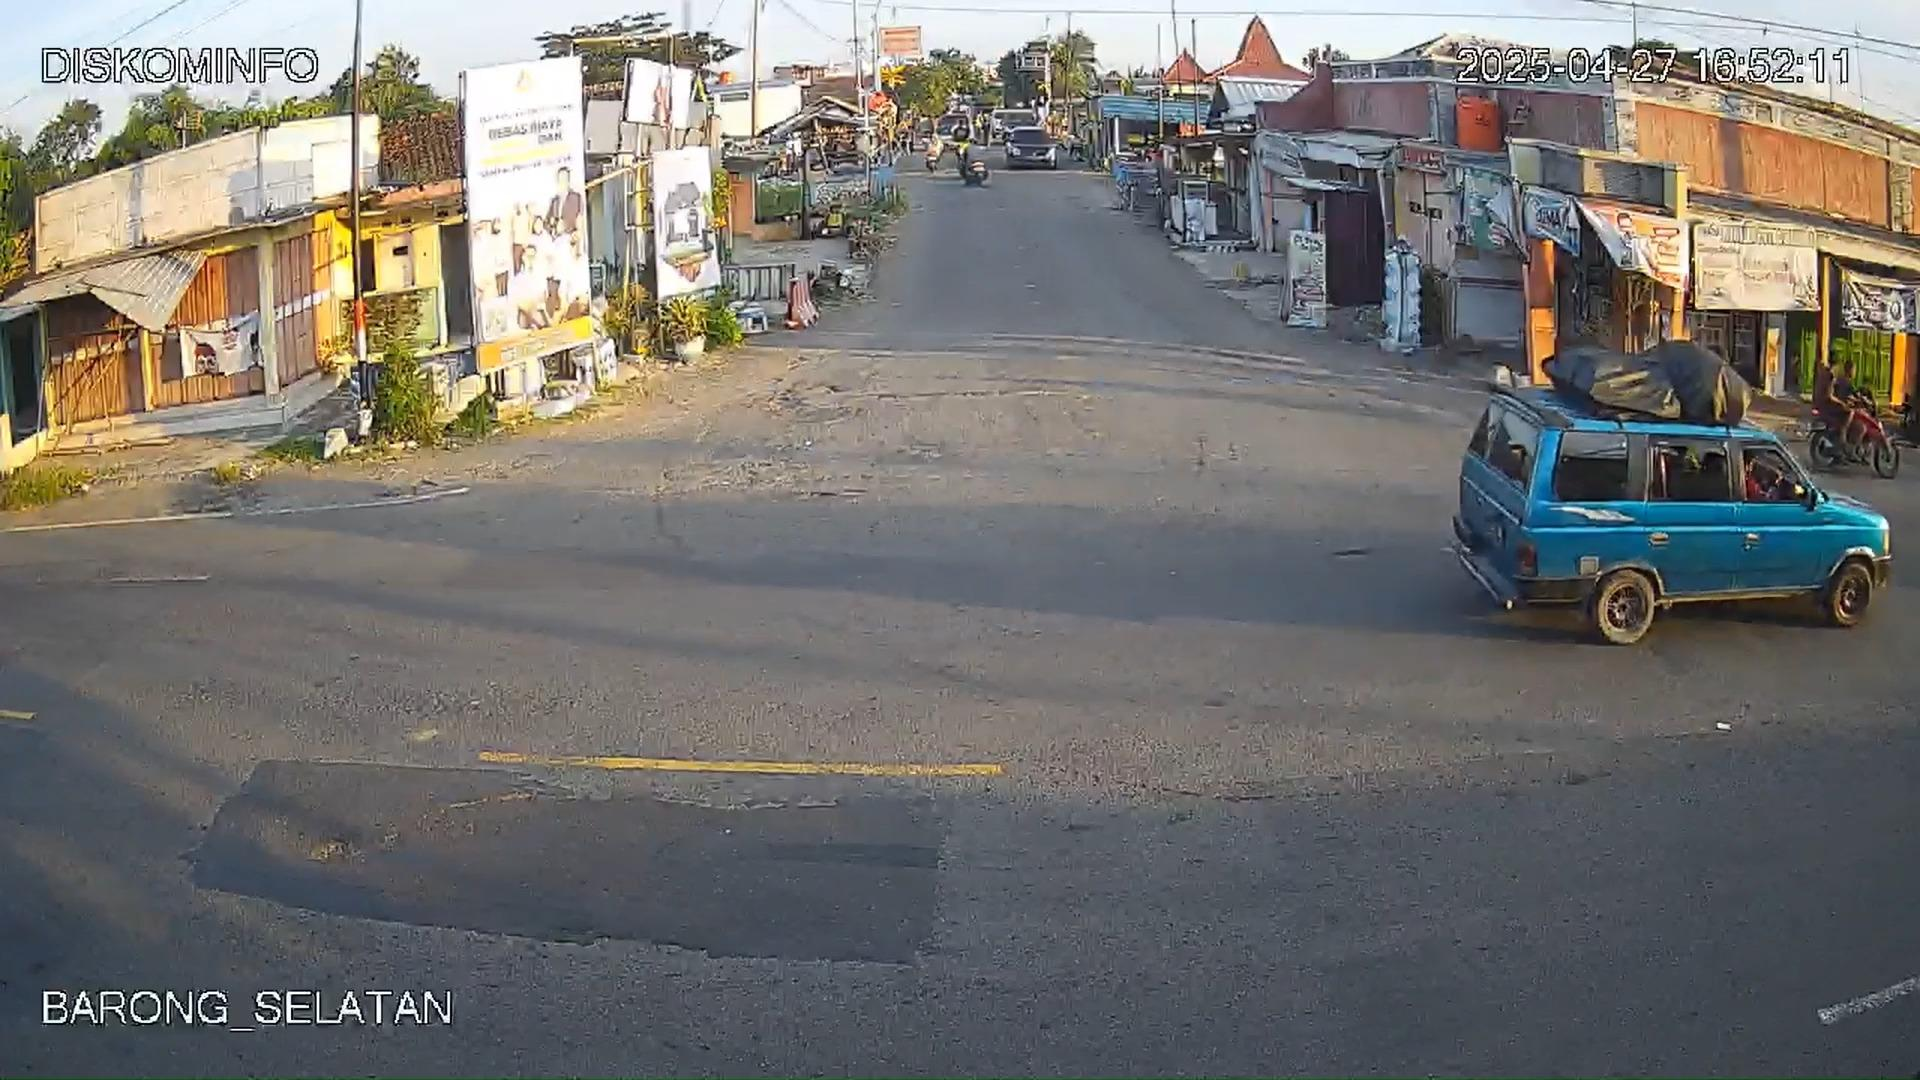Motor: (1811, 393, 1899, 476)
mobil: (1445, 375, 1892, 642)
